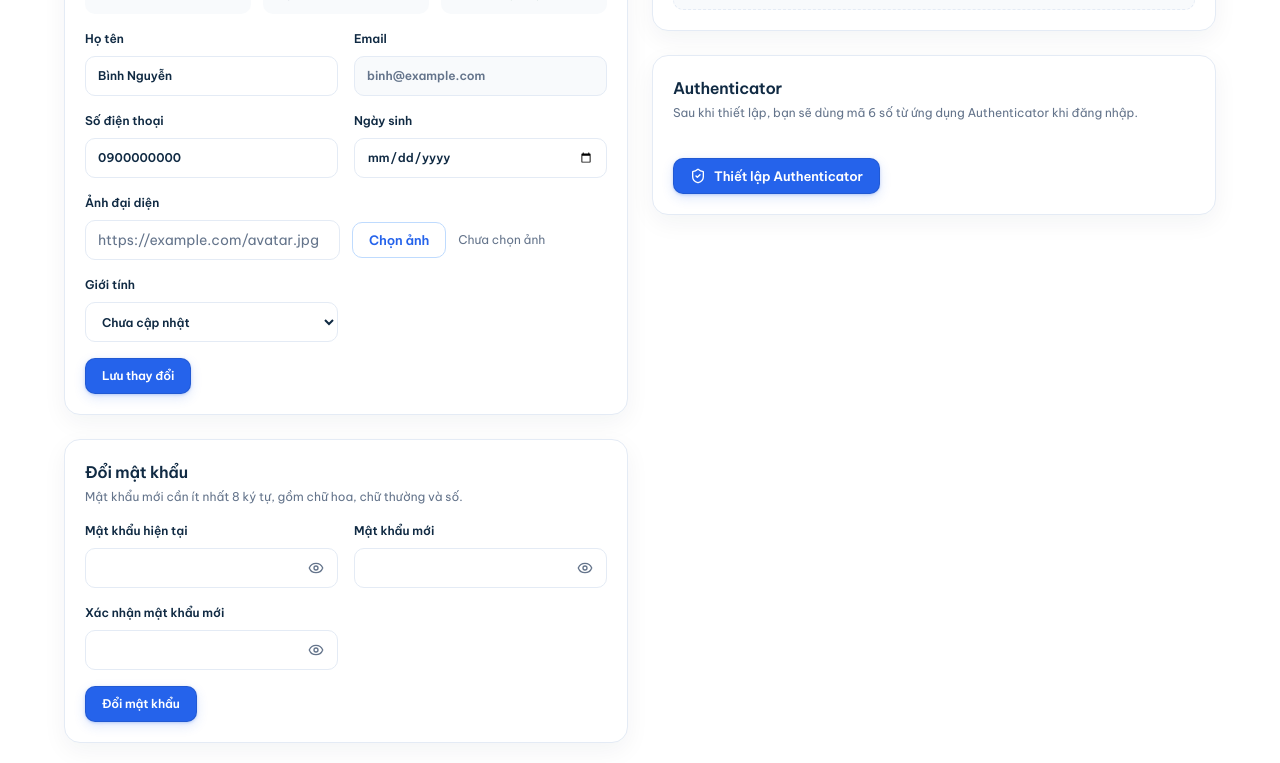
ProfilePage › shows an API 409 conflict when changing the password
(page scrolled)
Type "OldPassword1" into the password field labelled "Mật khẩu hiện tại" at (212, 568), box left=85, top=548, right=338, bottom=588
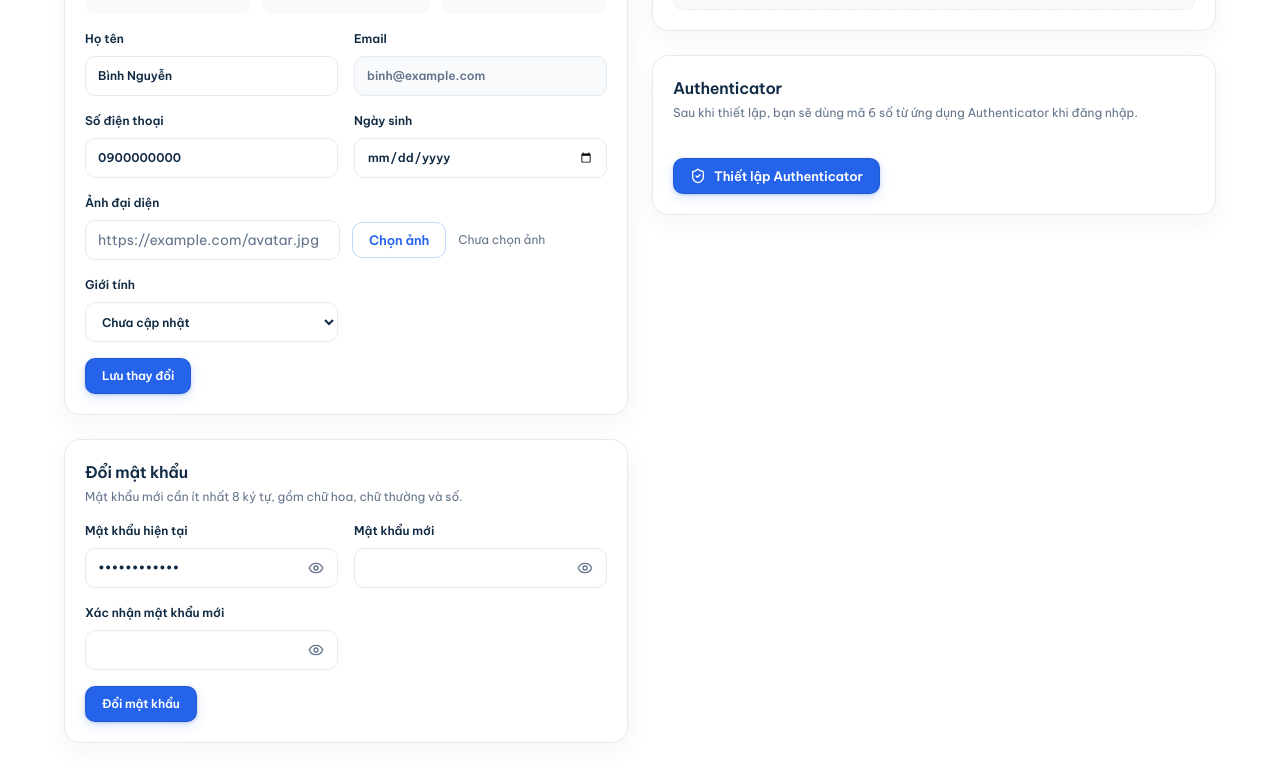
Type "NewPassword1" into the password field labelled "Mật khẩu mới" at (480, 568), box left=354, top=548, right=607, bottom=588
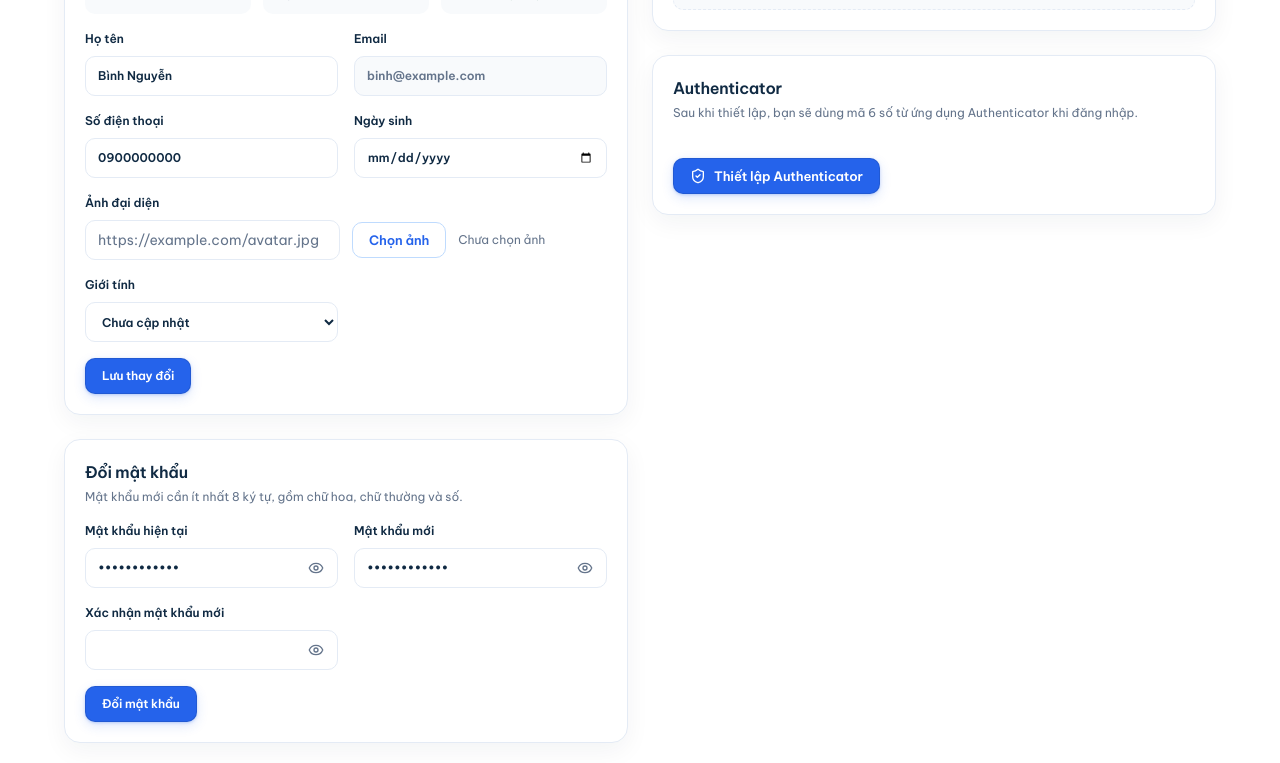
Type "NewPassword1" into the password field labelled "Xác nhận mật khẩu mới" at (212, 650), box left=85, top=630, right=338, bottom=670
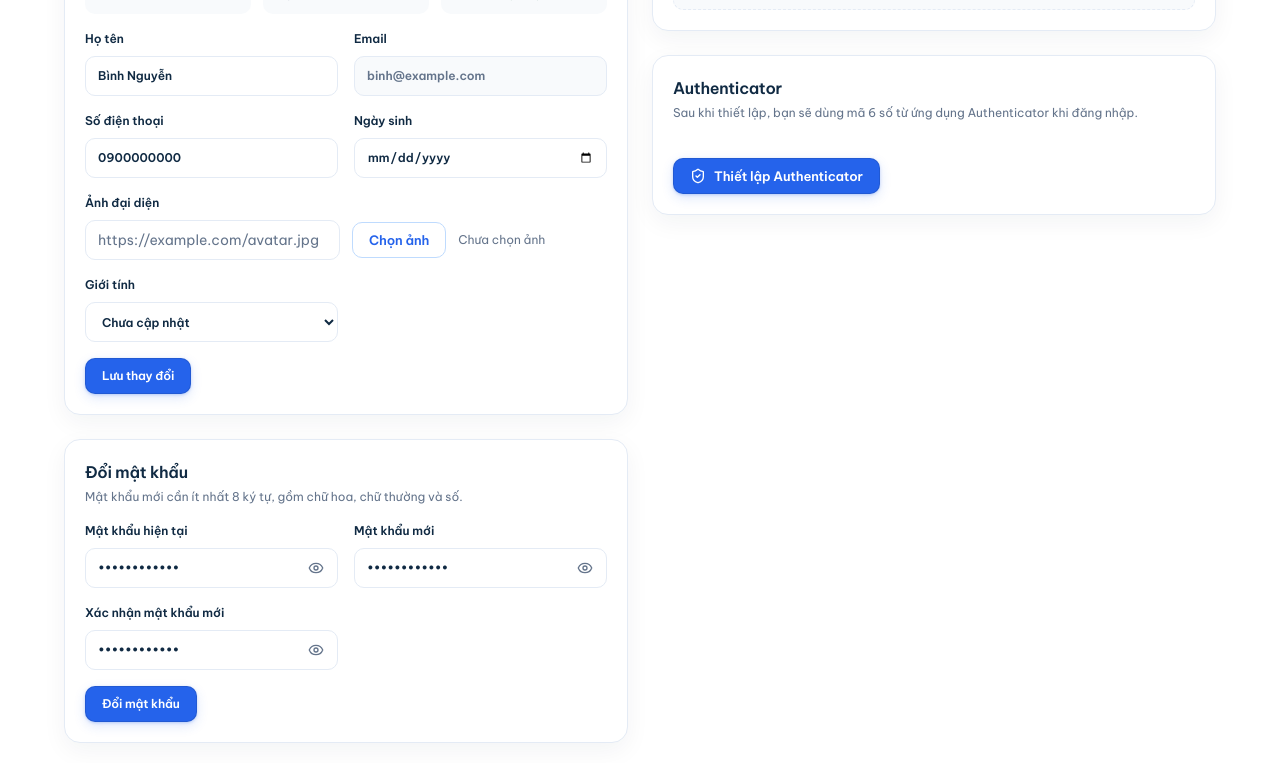
Click the button "Đổi mật khẩu" at (141, 704), box left=85, top=686, right=197, bottom=722
(page scrolled)
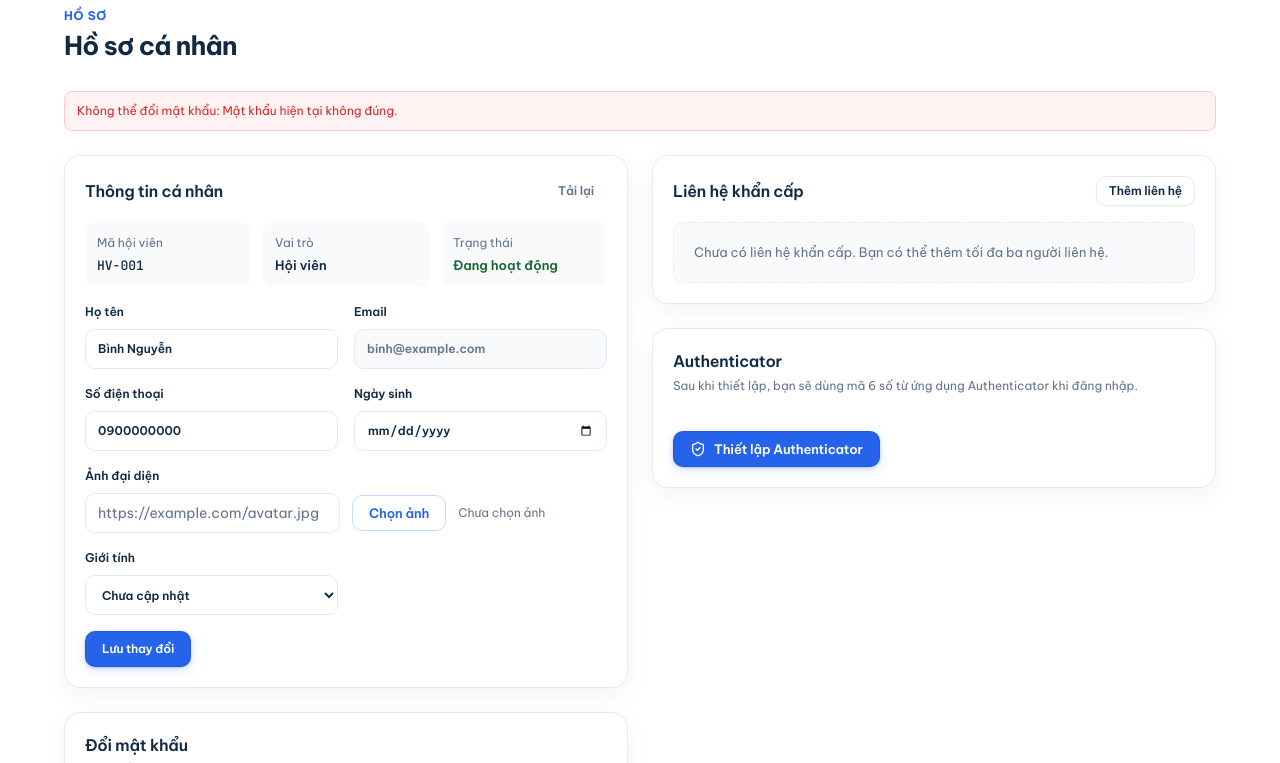
expect the message shows "Mật khẩu hiện tại không đúng.": met, box left=77, top=103, right=397, bottom=118
